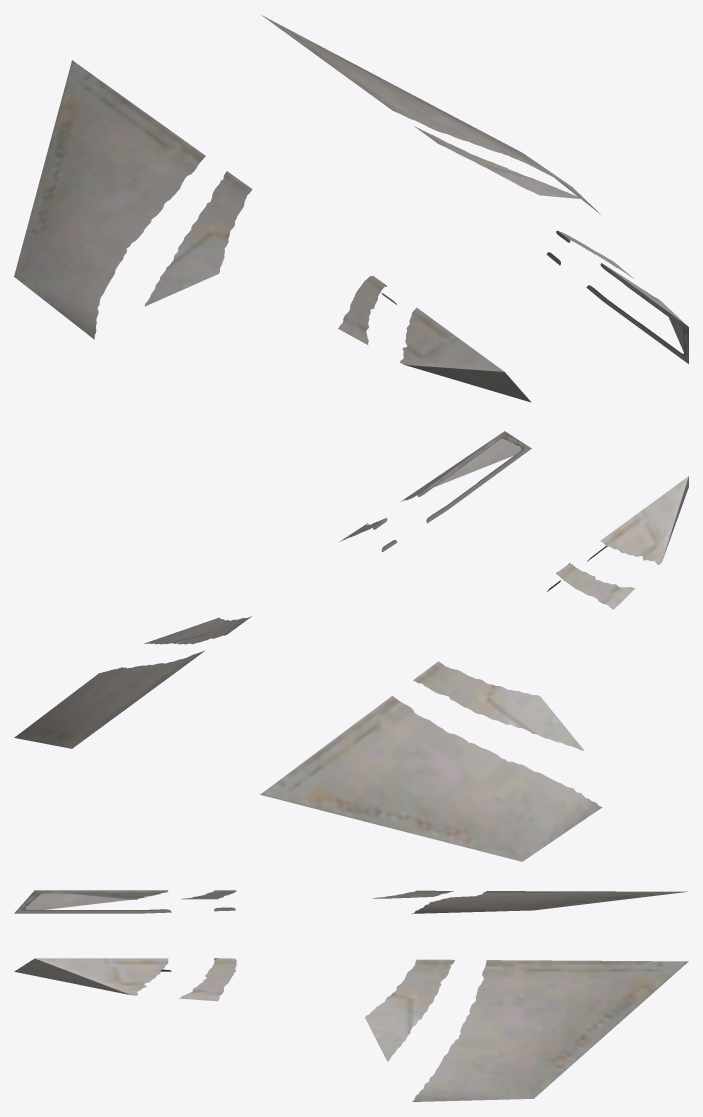
The model's file is hutt_fighter_medium_struct_s02_l2.fbx.
3 renders of one model, top to bottom at view 1: azimuth 30°, elevation 25°; view 2: azimuth 150°, elevation 25°; view 3: azimuth 270°, elevation 25°, orthographic. The views are drawn at different scales.
Visible parts, largest first — view 1: mesh_node; view 2: mesh_node; view 3: mesh_node.
Boxes of the visible parts, x1,y1,x2,y2 form: mesh_node: (14,15,688,402); mesh_node: (14,431,688,861); mesh_node: (14,890,688,1101).
Bounding box in the file's own units: 13.72 × 2.86 × 20.77.
